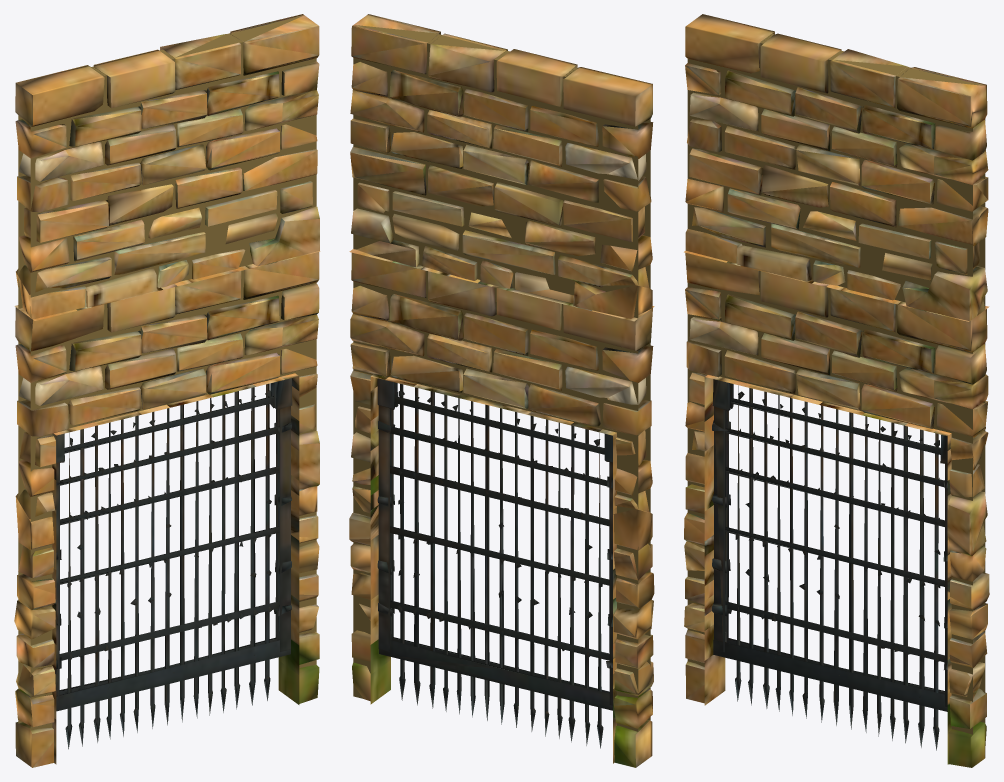
The model's file is portcullis.lod1.glb.
3 views of the same model, side by side, from view 1: azimuth 30°, elevation 25°; view 2: azimuth 150°, elevation 25°; view 3: azimuth 330°, elevation 25° (orthographic).
Visible parts, largest first — view 1: FrameTop, Frame, Grid; view 2: FrameTop, Frame, Grid; view 3: FrameTop, Frame, Grid.
Part boxes in pixels (x1,y1,x2,y2): FrameTop: (14, 14, 320, 320); Frame: (14, 252, 319, 767); Grid: (56, 378, 292, 749); FrameTop: (349, 14, 654, 321); Frame: (349, 252, 654, 767); Grid: (377, 378, 612, 748); FrameTop: (684, 14, 989, 321); Frame: (684, 253, 989, 767); Grid: (712, 379, 947, 750).
Bounding box in the file's own units: 2 × 4.5 × 0.25.
Materials: 2 (2 with a texture image).
